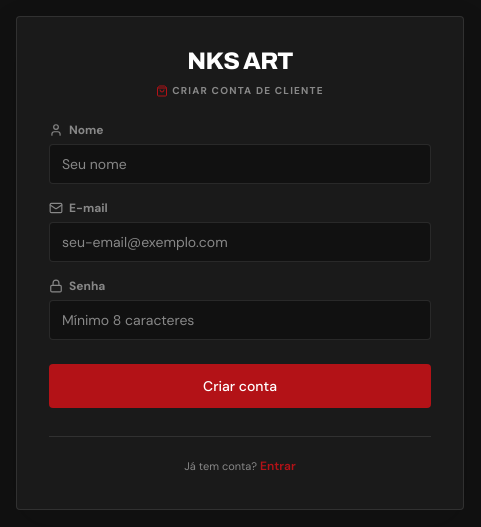
CadastroPage — estados do formulário › estado de loading: botão desabilitado com spinner ao submeter
This screenshot has width=481, height=527.
In the field with placeholder "Seu nome": [240, 164] box [49,144,431,184], type "Teste"
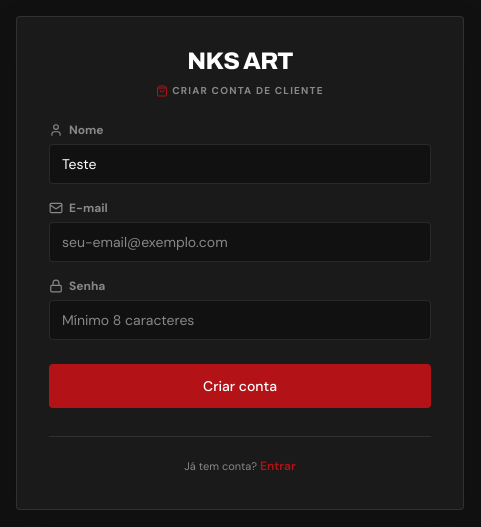
In the field with placeholder "seu-email@exemplo.com": [240, 242] box [49,222,431,262], type "teste@x.com"
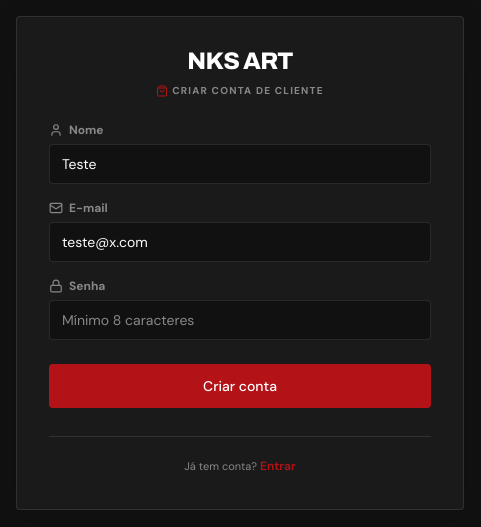
In the password field with placeholder "Mínimo 8 caracteres": [240, 320] box [49,300,431,340], type "senha123"
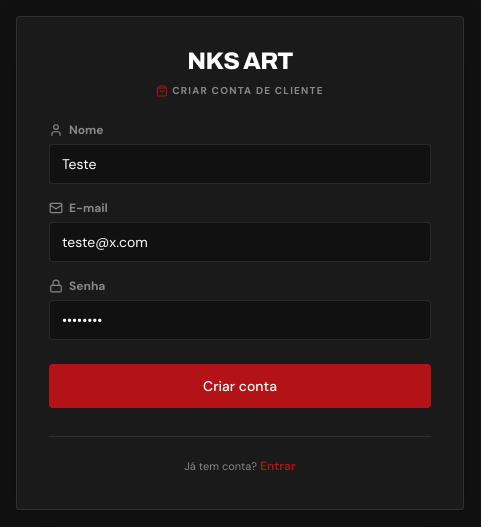
Submit the form "Nome E-mail Senha Criar conta", box [49,122,431,408]
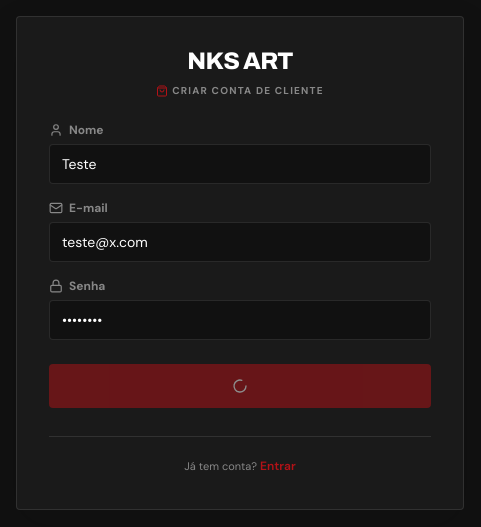
Now the button is disabled, box [49,364,431,408]
